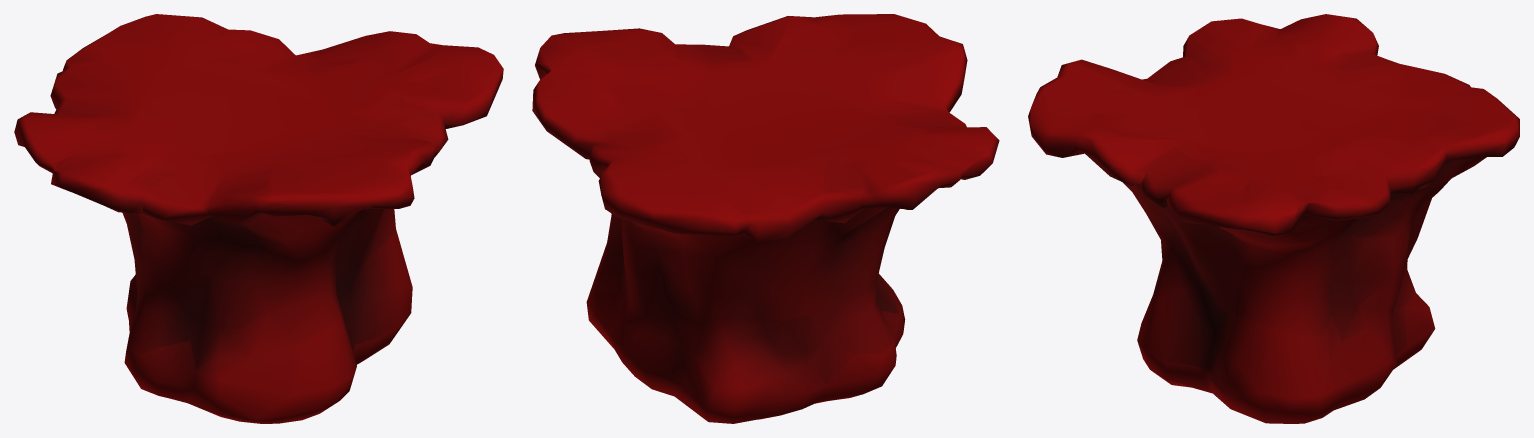
Rendered from env_siderock_medium01_lod1.fbx.
The picture shows the model from 3 angles, left to right: view 1: azimuth 30°, elevation 25°; view 2: azimuth 150°, elevation 25°; view 3: azimuth 270°, elevation 25°; orthographic projection. The views are drawn at different scales.
Visible parts, largest first — view 1: env_siderock_medium01_lod1; view 2: env_siderock_medium01_lod1; view 3: env_siderock_medium01_lod1.
Part boxes in pixels (x1=…): env_siderock_medium01_lod1: x1=14, y1=14, x2=503, y2=423; env_siderock_medium01_lod1: x1=532, y1=14, x2=999, y2=423; env_siderock_medium01_lod1: x1=1028, y1=14, x2=1519, y2=423.
Size of the model in its own units: 128 by 77.34 by 126.
